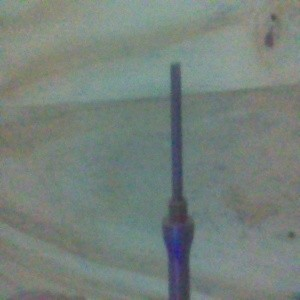obeng: (160, 62, 196, 300)
